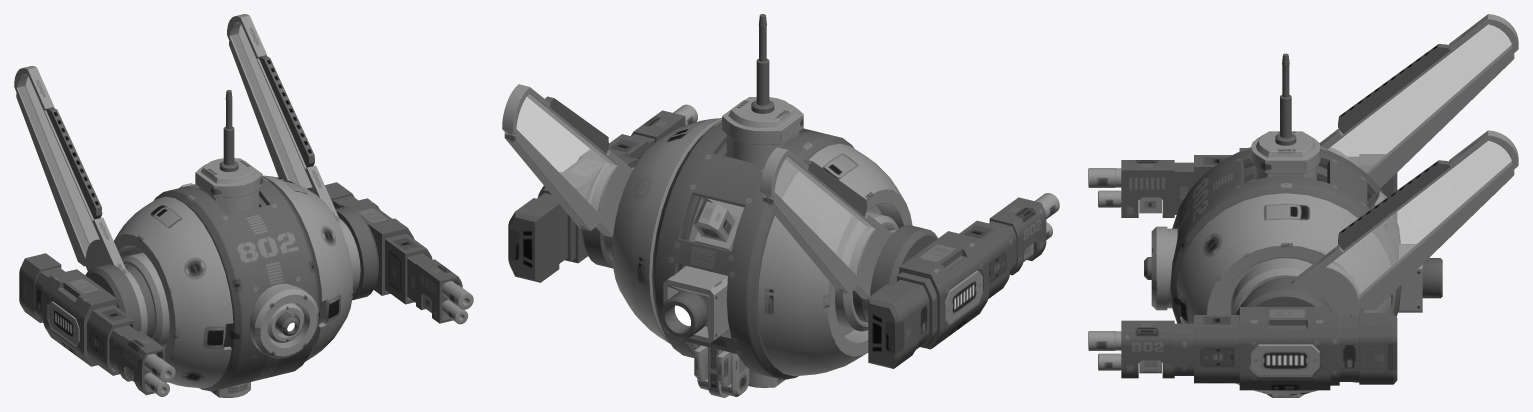
File: dron.glb
3 renders of one model, left to right at view 1: azimuth 30°, elevation 25°; view 2: azimuth 150°, elevation 25°; view 3: azimuth 270°, elevation 25°, orthographic. The views are drawn at different scales.
Visible parts, largest first — view 1: Sphere.008, Cube.003, Sphere.006, Cylinder.009, Sphere.007, Cylinder.006, Sphere.005, Cylinder.008, Cylinder.002, Cylinder.011; view 2: Sphere.008, Cube.003, Cylinder.009, Sphere.006, Sphere.007, Cube.004, Cylinder.008, Sphere.005, Cylinder.010, Cylinder.011, Cylinder.002; view 3: Cube.003, Sphere.008, Sphere.006, Sphere.007, Cylinder.009, Cylinder.008, Cylinder.002, Cylinder.006, Sphere.005, Cube.004, Cylinder.011, Cylinder.010 (+1 smaller).
Part boxes in pixels (x1,y1,x2,y2): Sphere.008: (114,175,353,388); Cube.003: (19,182,462,395); Sphere.006: (14,14,360,334); Cylinder.009: (154,177,320,391); Sphere.007: (18,22,312,255); Cylinder.006: (249,283,318,358); Sphere.005: (85,206,379,337); Cylinder.008: (195,158,262,397); Cylinder.002: (144,281,473,396); Cylinder.011: (219,90,238,171); Sphere.008: (612,118,912,376); Cube.003: (508,110,1046,368); Cylinder.009: (652,120,854,379); Sphere.006: (502,84,896,320); Sphere.007: (516,94,873,274); Cube.004: (663,201,749,397); Cylinder.008: (702,97,803,387); Sphere.005: (581,155,937,322); Cylinder.010: (660,291,707,338); Cylinder.011: (751,14,774,113); Cylinder.002: (673,104,1059,239); Cube.003: (1121,148,1397,390); Sphere.008: (1176,147,1395,395); Sphere.006: (1289,14,1518,316); Sphere.007: (1327,24,1512,298); Cylinder.009: (1170,149,1401,323); Cylinder.008: (1250,131,1320,397); Cylinder.002: (1088,168,1121,370); Cylinder.006: (1144,226,1177,310); Sphere.005: (1236,278,1333,314); Cube.004: (1353,191,1422,382); Cylinder.011: (1275,53,1296,145); Cylinder.010: (1422,258,1442,298).
Bounding box in the file's own units: 3.25 × 2.8 × 3.26.
Materials: 3 (2 with a texture image).
